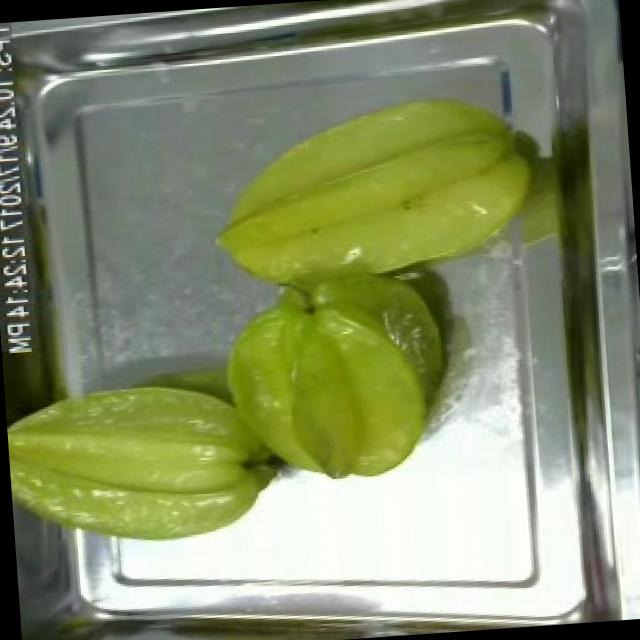fruit: (195, 76, 558, 302), (206, 266, 458, 498), (3, 362, 296, 560)
